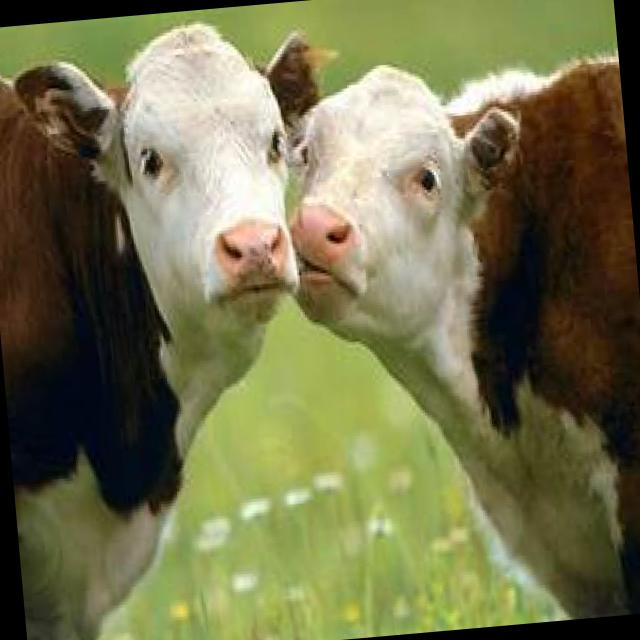cow: (0, 8, 373, 640), (279, 29, 640, 637)
